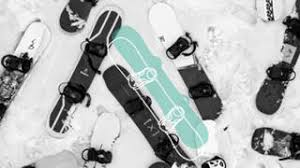snowboard: (109, 25, 210, 150), (48, 3, 125, 135), (102, 63, 198, 168), (147, 2, 224, 122), (1, 19, 54, 126), (254, 1, 300, 116), (81, 109, 122, 168), (252, 127, 300, 161), (58, 1, 99, 33), (21, 150, 80, 168), (202, 155, 228, 168)
